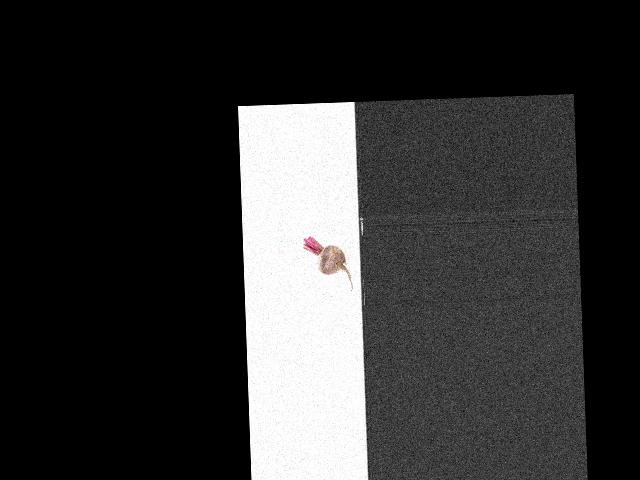beet: (303, 235, 353, 293)
